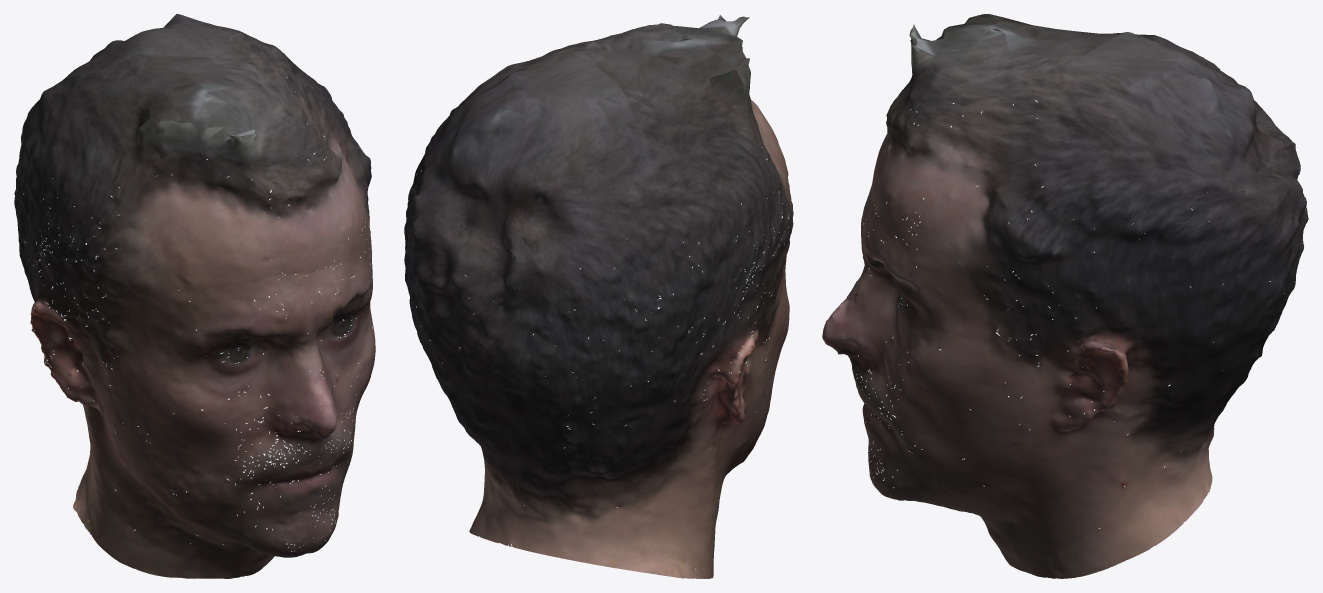
Rendered from gui_fradin_textured_head_only.glb.
3 renders of one model, left to right at view 1: azimuth 30°, elevation 25°; view 2: azimuth 150°, elevation 25°; view 3: azimuth 270°, elevation 25°, orthographic. The views are drawn at different scales.
Size of the model in its own units: 0.5297 by 0.8084 by 0.7025.
Materials: 1 (1 with a texture image).
